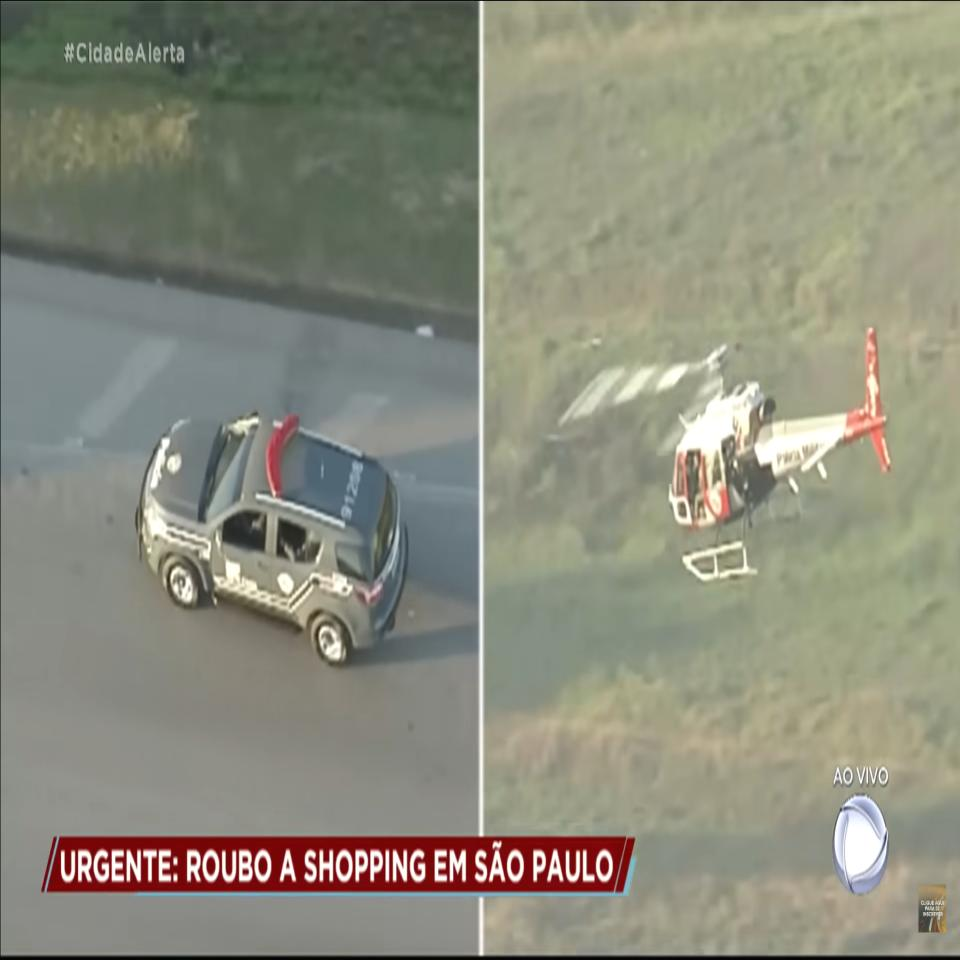viatura: (135, 408, 409, 668)
